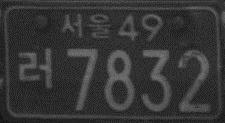2: (176, 47, 210, 113)
3: (140, 47, 171, 113)
4: (116, 14, 138, 41)
7: (65, 46, 98, 111)
8: (103, 47, 135, 112)
9: (140, 12, 162, 42)
러: (16, 47, 54, 89)
서울_O: (61, 12, 111, 40)
